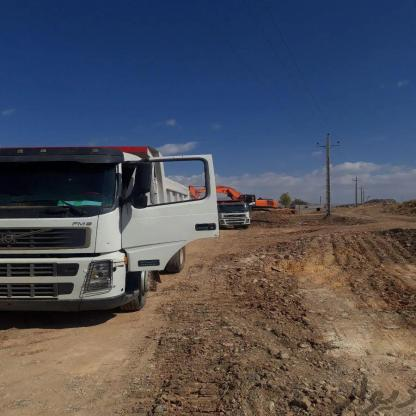Truck: (0, 142, 190, 326), (223, 204, 256, 234)
